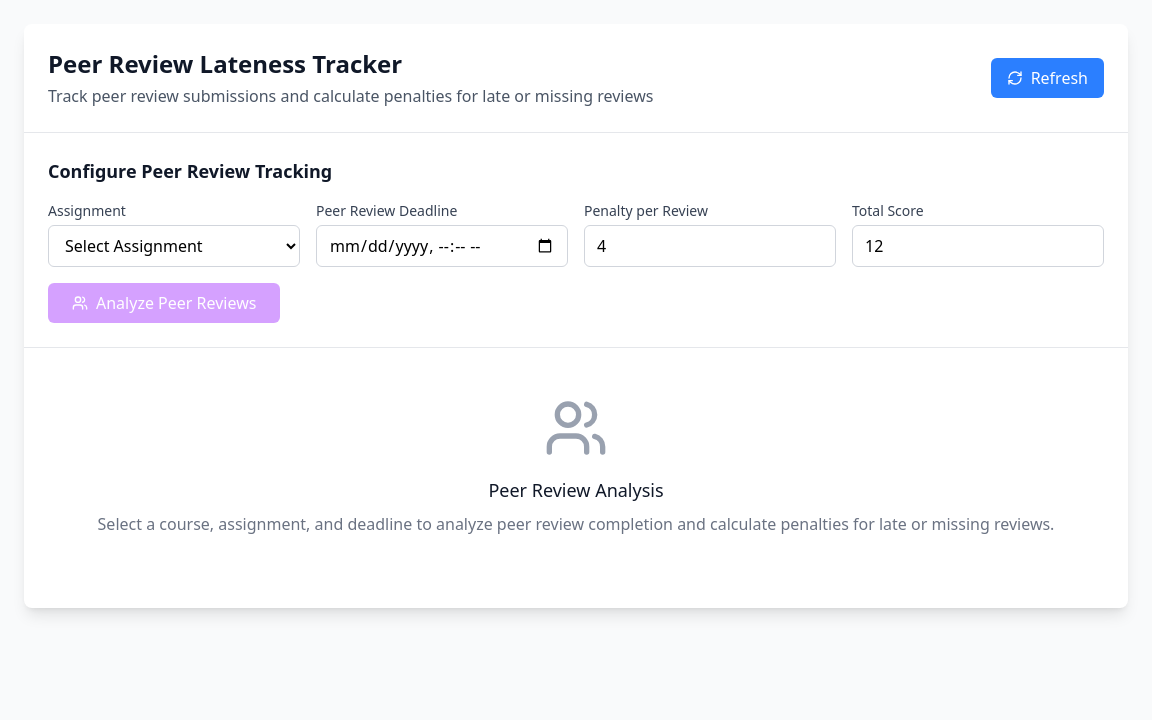
PeerReviewTracking › Form Validation › enables analyze button when all required fields are filled
The width and height of the screenshot is (1152, 720).
Select "Assignment 1" in the dropdown named "Select assignment": [174, 246] box [48,225,300,267]
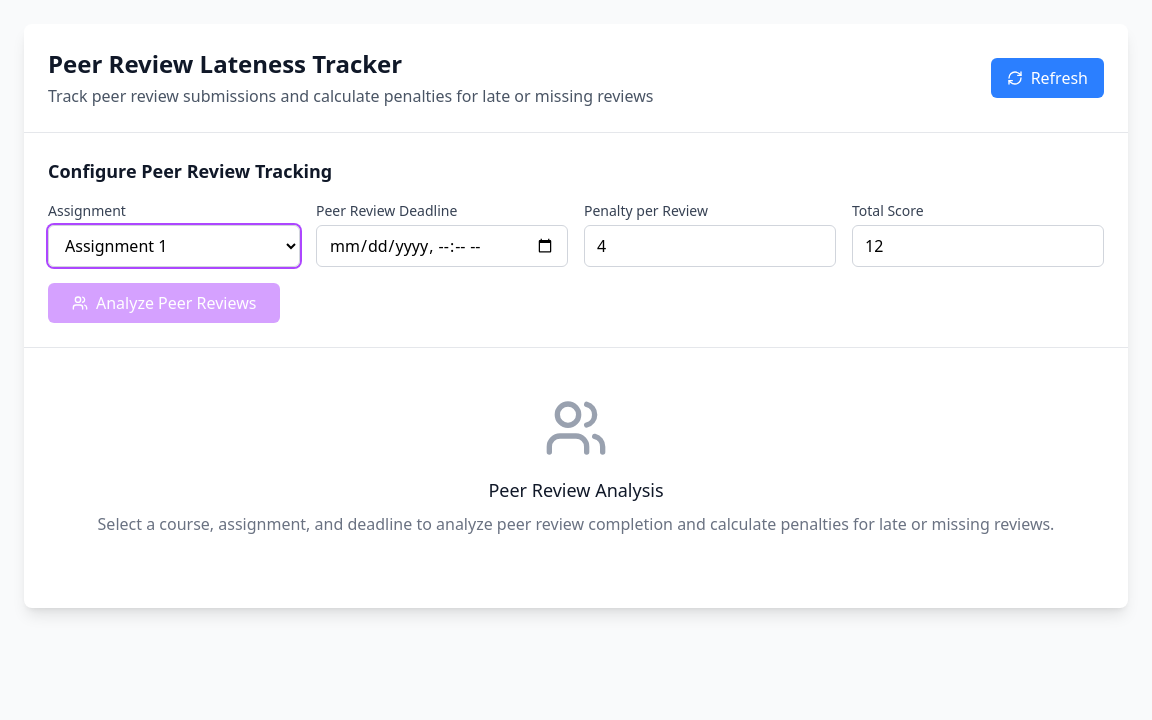
In the field named "Select peer review deadline": [442, 246] box [316,225,568,267], type "2025-02-01T12:00"
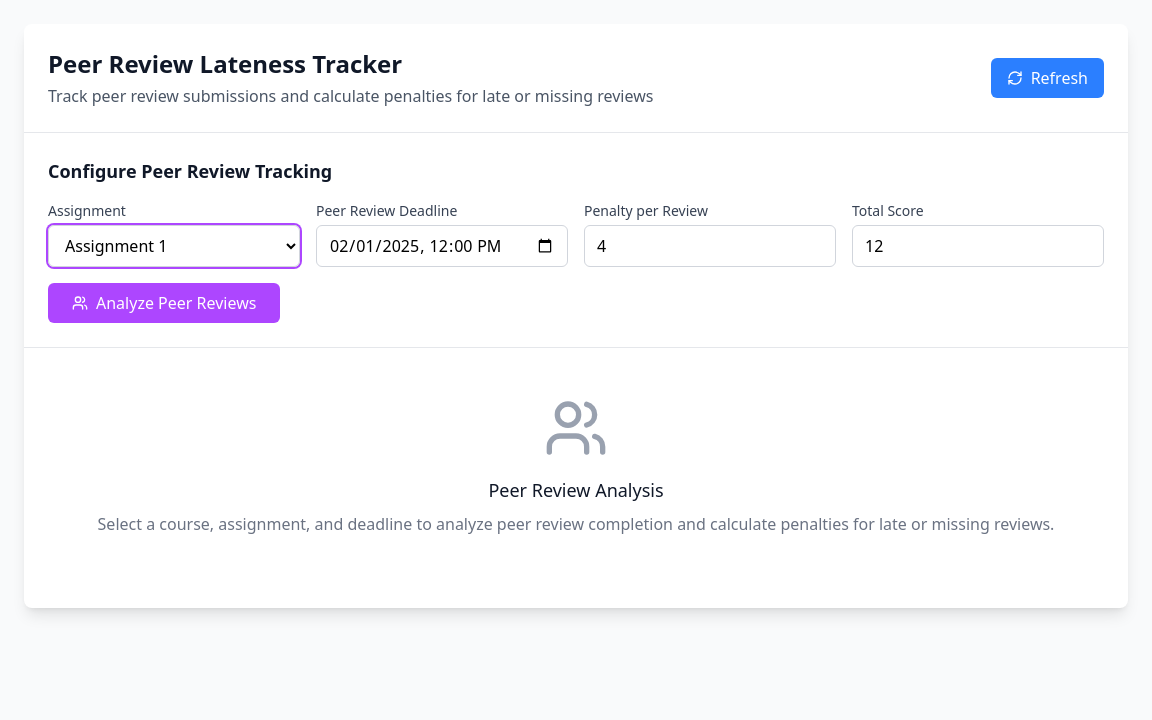
Check: the button "Analyze Peer Reviews" is enabled, box [48,283,280,323]
